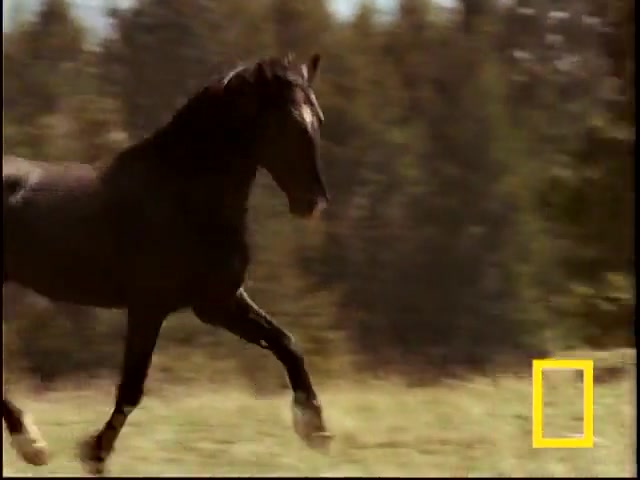horse: (1, 49, 339, 478)
